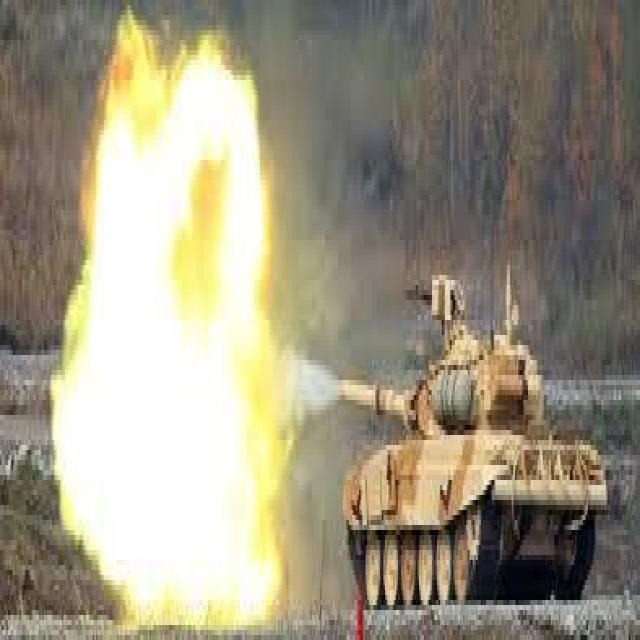MIL_MBT: (332, 295, 608, 615)
